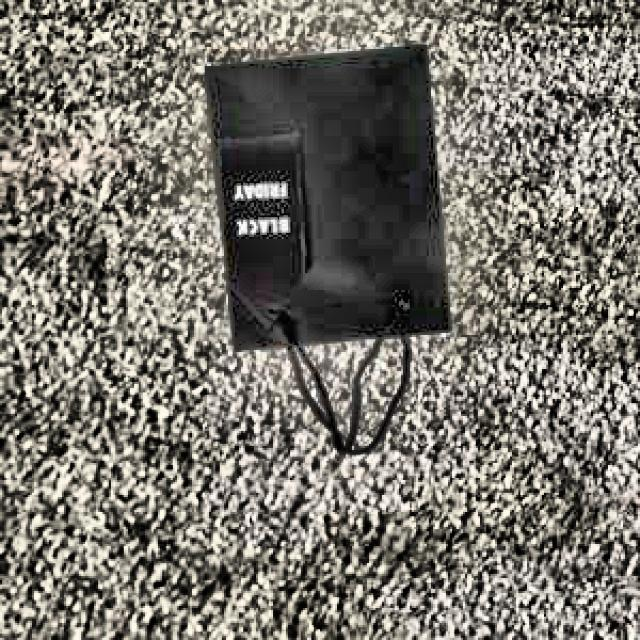Paper-bag: (195, 36, 466, 476)
